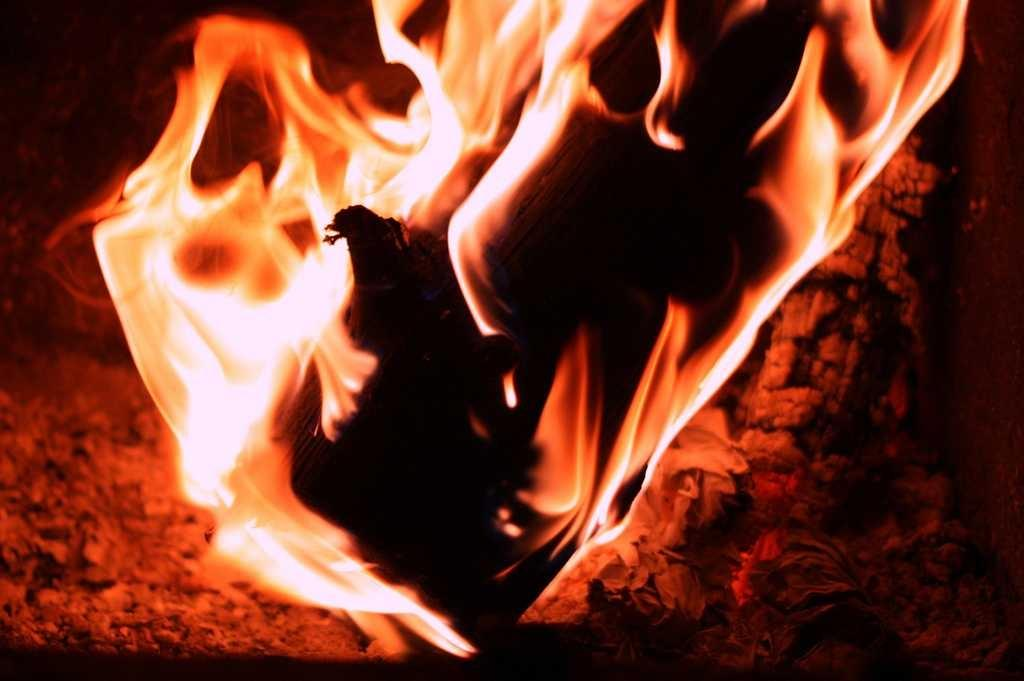fire: (128, 238, 350, 405), (370, 117, 463, 203), (182, 410, 250, 503)
